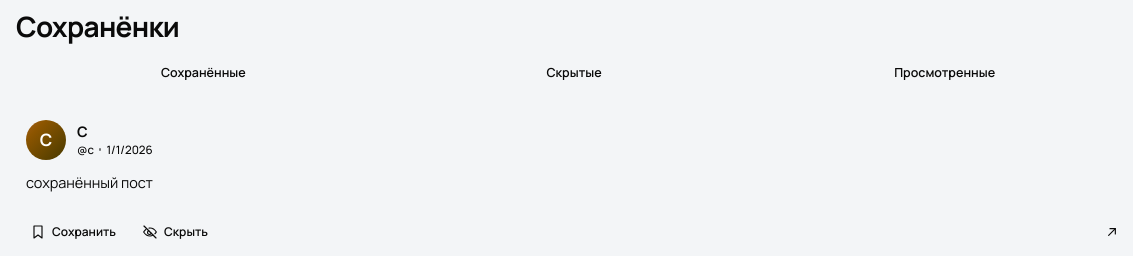
SavedScreen — вкладка «Просмотренные» › keeps the saved and hidden tabs working alongside the new tab
Expected: the text "сохранённый пост" is shown, [26, 173, 153, 192]
Click the button "Скрытые" at [574, 74], box [391, 59, 757, 88]
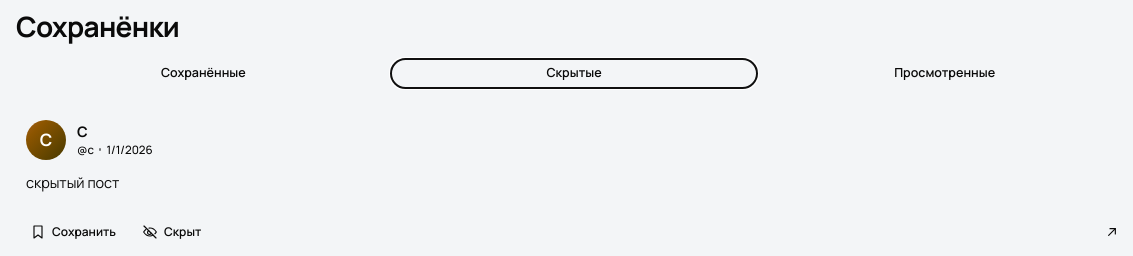
Result: the text "скрытый пост" is shown at [26, 173, 119, 192]
